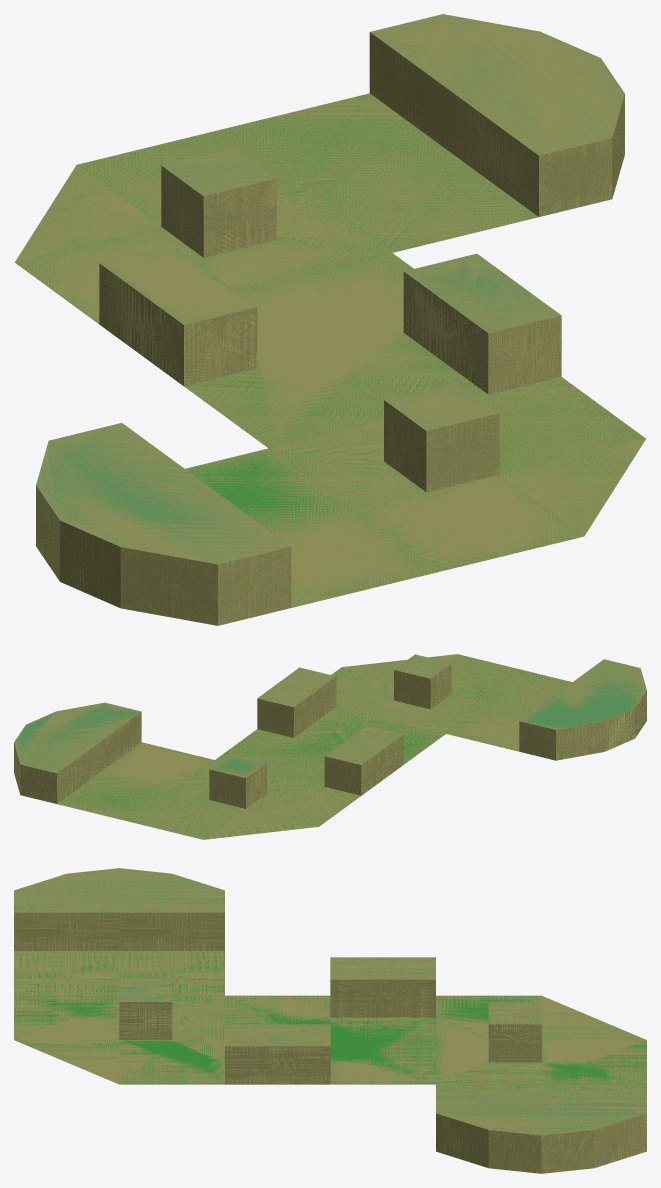
File: ForestWorld.fbx
The picture shows the model from 3 angles, top to bottom: view 1: azimuth 30°, elevation 25°; view 2: azimuth 150°, elevation 25°; view 3: azimuth 270°, elevation 25°; orthographic projection. The views are drawn at different scales.
Parts seen in each view (by area): view 1: Model; view 2: Model; view 3: Model.
Boxes of the visible parts, x1=… form: Model: x1=15, y1=14, x2=645, y2=625; Model: x1=14, y1=654, x2=646, y2=839; Model: x1=14, y1=868, x2=646, y2=1173.
Bounding box in the file's own units: 0.75 × 0.05 × 0.75.
